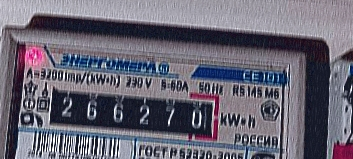0: (187, 106, 201, 127)
2: (56, 94, 73, 116), (134, 102, 150, 123)
6: (82, 97, 97, 119), (109, 100, 124, 121)
7: (160, 104, 173, 124)
screen: (37, 75, 225, 145)
